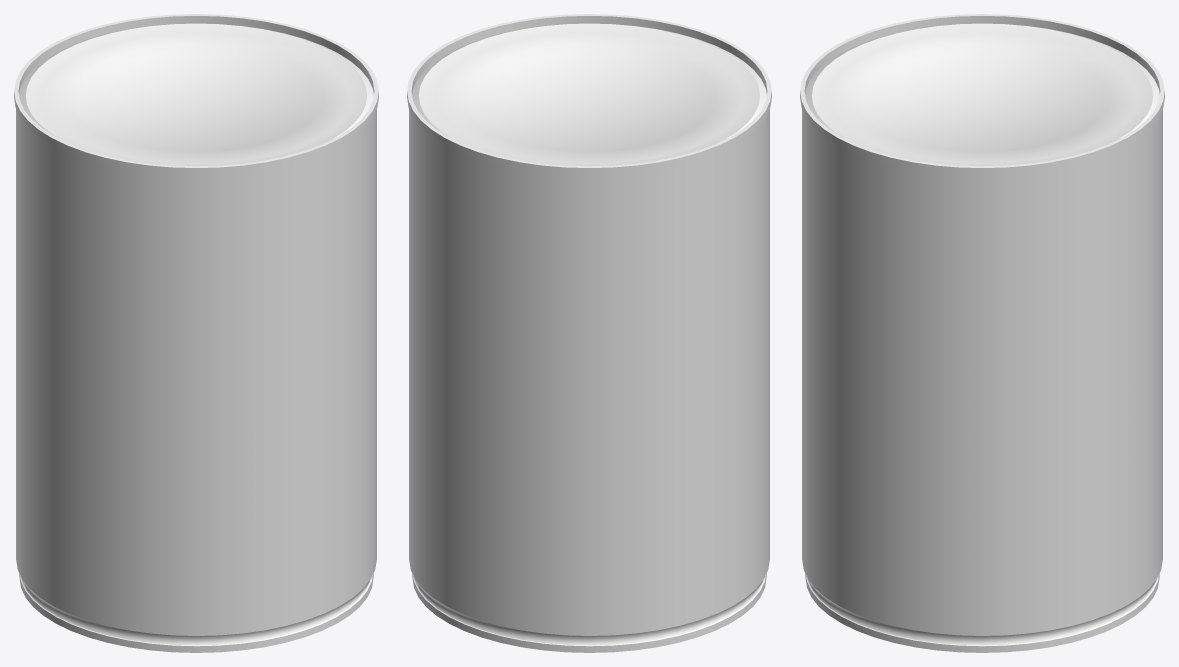
Rendered from Can.obj.
3 renders of one model, left to right at view 1: azimuth 30°, elevation 25°; view 2: azimuth 150°, elevation 25°; view 3: azimuth 270°, elevation 25°, orthographic.
Visible parts, largest first — view 1: TinCan4; view 2: TinCan4; view 3: TinCan4.
Boxes of the visible parts, <box> form: TinCan4: <box>14,14,378,652</box>; TinCan4: <box>407,14,771,652</box>; TinCan4: <box>800,14,1164,652</box>.
Bounding box in the file's own units: 2.91 × 4.29 × 2.91.
1 material, 1 textured.
